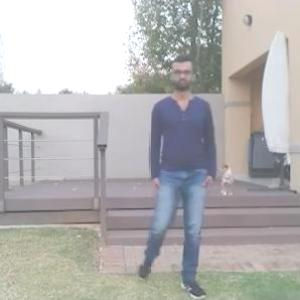follow: (137, 52, 216, 292)
